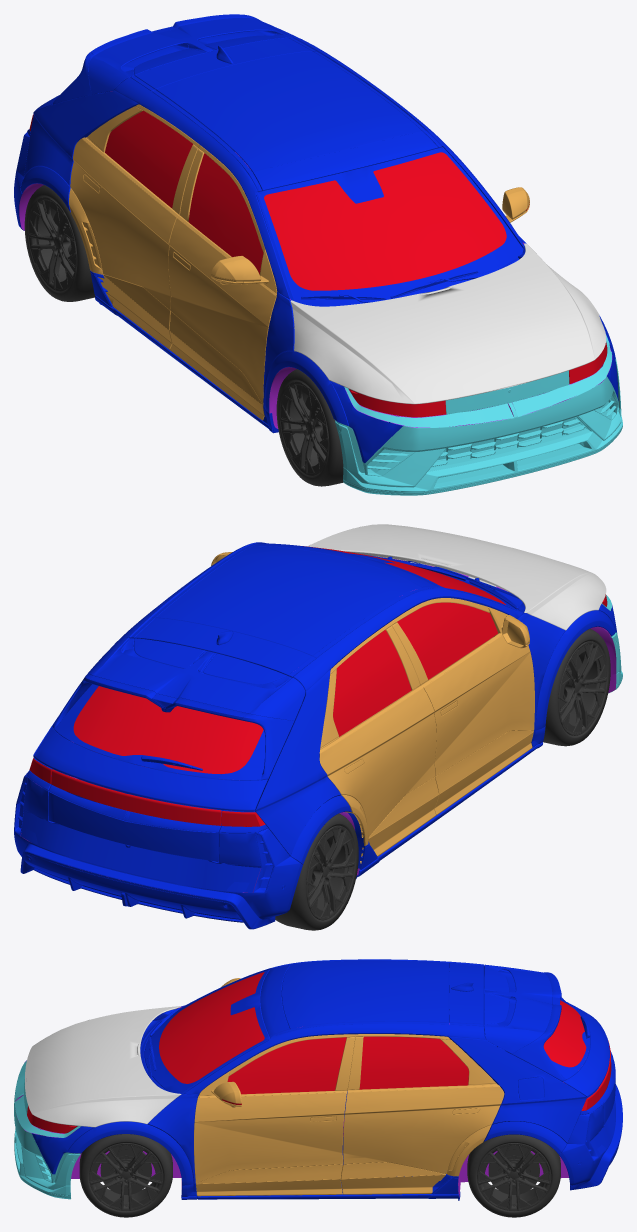
File: FBX_ElectricCars.fbx
3 views of the same model, one above another, from view 1: azimuth 30°, elevation 25°; view 2: azimuth 150°, elevation 25°; view 3: azimuth 270°, elevation 25° (orthographic). The views are drawn at different scales.
Visible parts, largest first — view 1: SM_Ioniq_Electric, SM_Ioniq_Hood, SM_Ioniq_Bumper, SM_Ioniq_DoorFrontRight, SM_Ioniq_DoorRearRight, SM_Wheel_02, SM_Wheel_04, SM_Ioniq_DoorFrontLeft; view 2: SM_Ioniq_Electric, SM_Ioniq_DoorFrontRight, SM_Ioniq_DoorRearRight, SM_Ioniq_Hood, SM_Wheel_04, SM_Wheel_02; view 3: SM_Ioniq_Electric, SM_Ioniq_DoorFrontLeft, SM_Ioniq_DoorRearLeft, SM_Ioniq_Hood, SM_Wheel_01, SM_Wheel_03, SM_Ioniq_Bumper, SM_Ioniq_ChargingPort.
Boxes of the visible parts, left/top/right/bottom form: SM_Ioniq_Electric: left=14, top=14, right=618, bottom=462; SM_Ioniq_Hood: left=290, top=243, right=606, bottom=404; SM_Ioniq_Bumper: left=334, top=335, right=622, bottom=495; SM_Ioniq_DoorFrontRight: left=168, top=145, right=277, bottom=420; SM_Ioniq_DoorRearRight: left=69, top=104, right=199, bottom=349; SM_Wheel_02: left=276, top=369, right=343, bottom=486; SM_Wheel_04: left=24, top=185, right=95, bottom=301; SM_Ioniq_DoorFrontLeft: left=502, top=187, right=529, bottom=222; SM_Ioniq_Electric: left=14, top=542, right=616, bottom=929; SM_Ioniq_DoorFrontRight: left=389, top=598, right=534, bottom=815; SM_Ioniq_DoorRearRight: left=319, top=623, right=438, bottom=863; SM_Ioniq_Hood: left=307, top=524, right=606, bottom=630; SM_Wheel_04: left=275, top=813, right=358, bottom=930; SM_Wheel_02: left=543, top=629, right=610, bottom=746; SM_Ioniq_Electric: left=15, top=959, right=622, bottom=1200; SM_Ioniq_DoorFrontLeft: left=194, top=1034, right=355, bottom=1196; SM_Ioniq_DoorRearLeft: left=340, top=1034, right=504, bottom=1194; SM_Ioniq_Hood: left=25, top=1006, right=181, bottom=1127; SM_Wheel_01: left=79, top=1134, right=172, bottom=1217; SM_Wheel_03: left=467, top=1134, right=560, bottom=1217; SM_Ioniq_Bumper: left=14, top=1060, right=80, bottom=1199; SM_Ioniq_ChargingPort: left=518, top=1077, right=544, bottom=1100.
Size of the model in its own units: 2.18 by 1.58 by 4.71.
